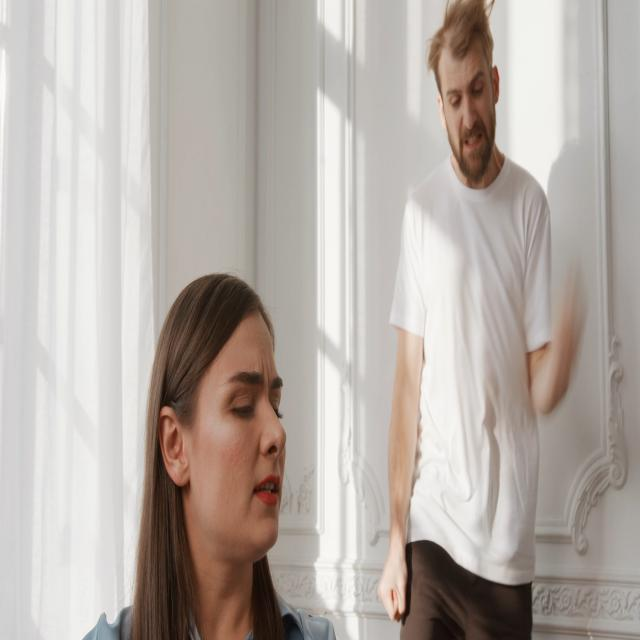angry: (419, 5, 519, 217)
stress: (153, 256, 312, 587)
